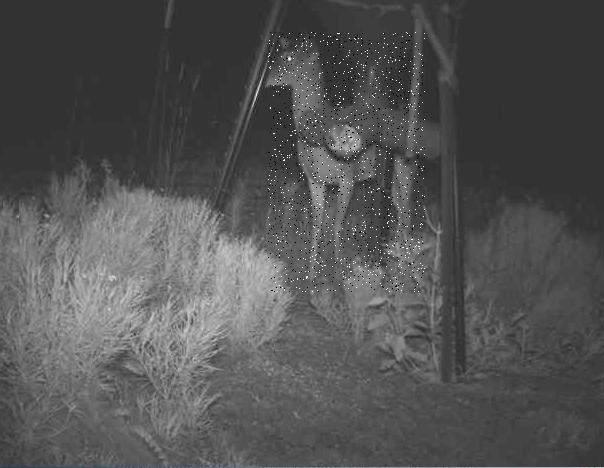Deer: (268, 33, 425, 293)
